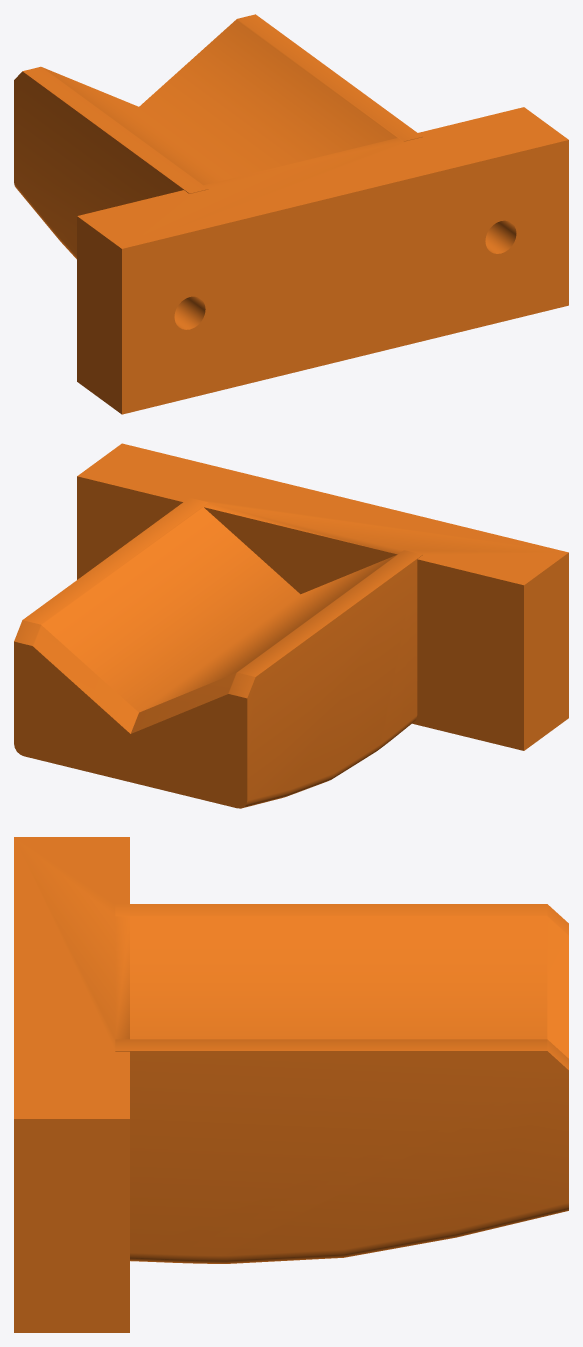
3 views of the same model, one above another, from view 1: azimuth 30°, elevation 25°; view 2: azimuth 150°, elevation 25°; view 3: azimuth 270°, elevation 25° (orthographic). The views are drawn at different scales.
Parts seen in each view (by area): view 1: finger_right; view 2: finger_right; view 3: finger_right.
Boxes of the visible parts, box(x1,y1,x2,y2) form: finger_right: box(14, 14, 568, 414); finger_right: box(14, 443, 568, 808); finger_right: box(14, 837, 568, 1332).
Bounding box in the file's own units: 0.046 × 0.0166 × 0.0383.
